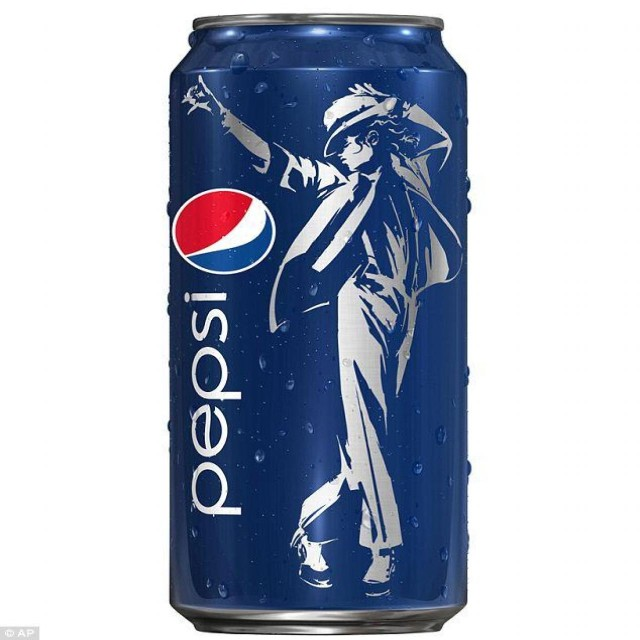pepsi: (174, 186, 278, 274)
